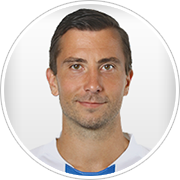face: (44, 39, 135, 121)
